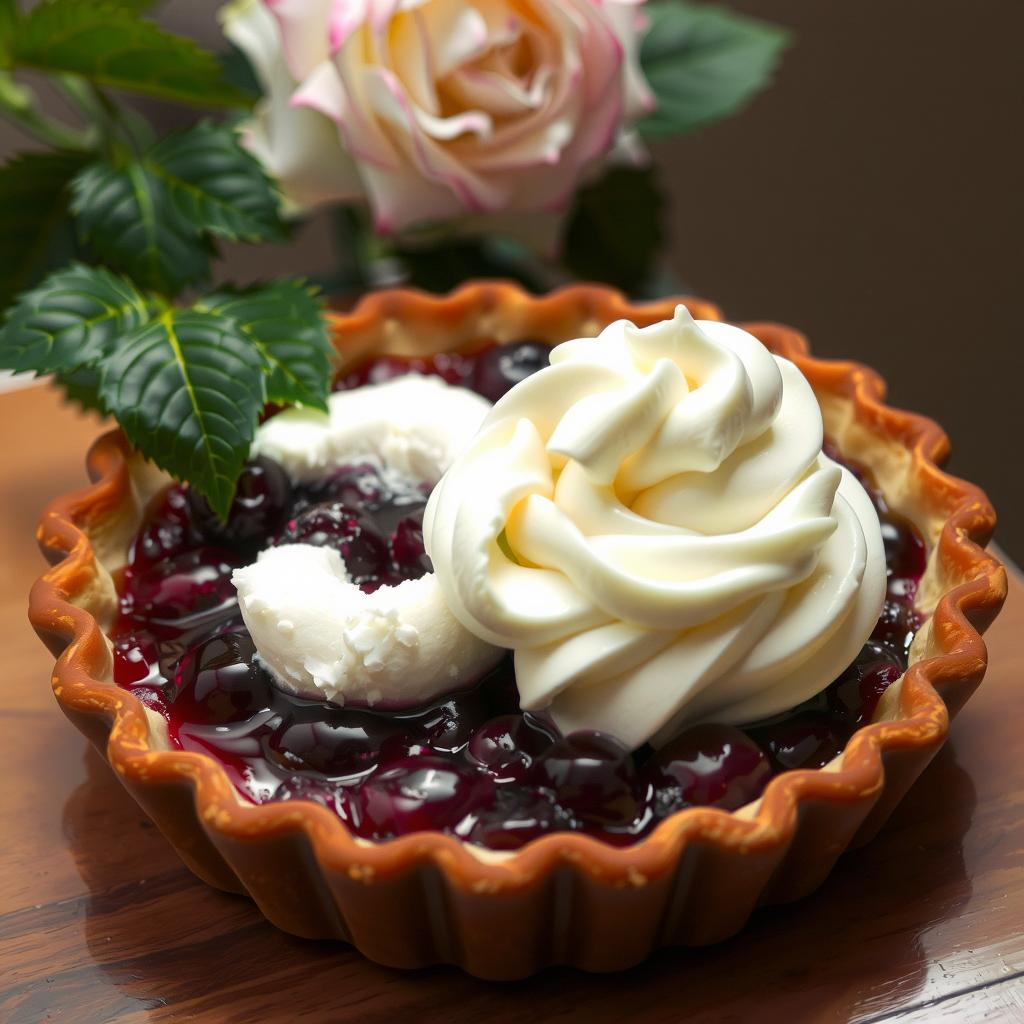pie: (24, 267, 1017, 974)
